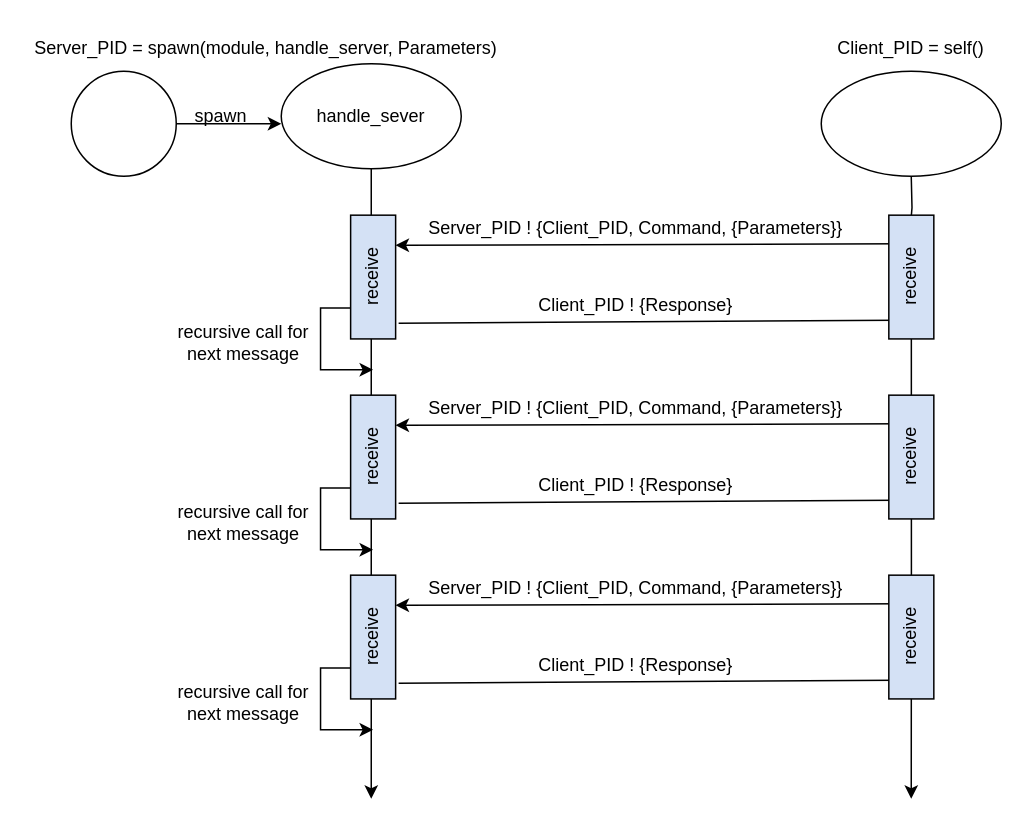
Image size: 1028x837. Some labels were removed from this diagram. Each missing label, with the box of its shape:
send_to_server: (820, 70, 1001, 176)
start_server: (70, 70, 176, 176)
